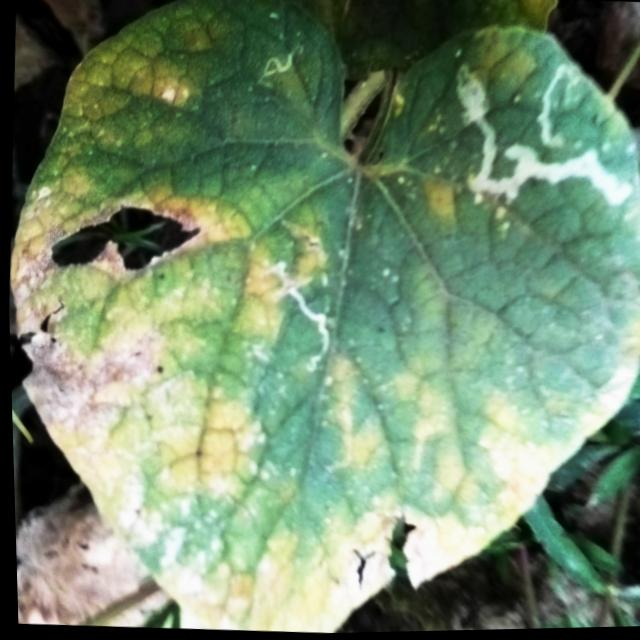Anthracnose: (41, 178, 211, 289)
